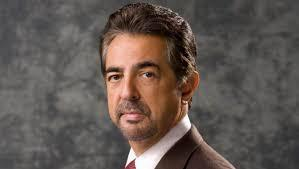normalMouth: (117, 107, 150, 123)
